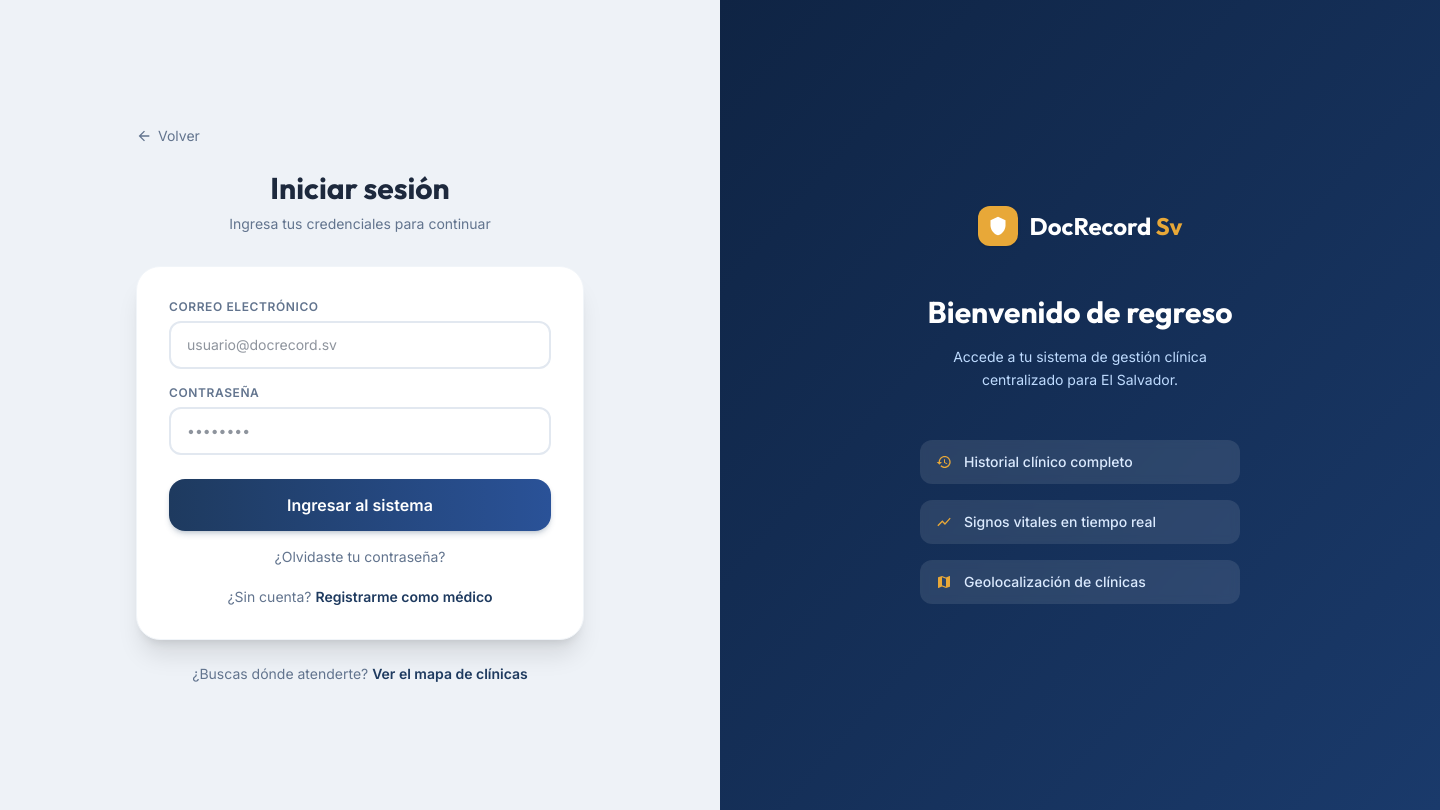
Test: LoginPage · el error de credenciales › queda asociado a los campos que lo provocan, no solo puesto debajo
Type "ana@ues.edu.sv" into the field labelled "Correo electrónico". click: (360, 345)
box: x1=169 y1=321 x2=551 y2=369
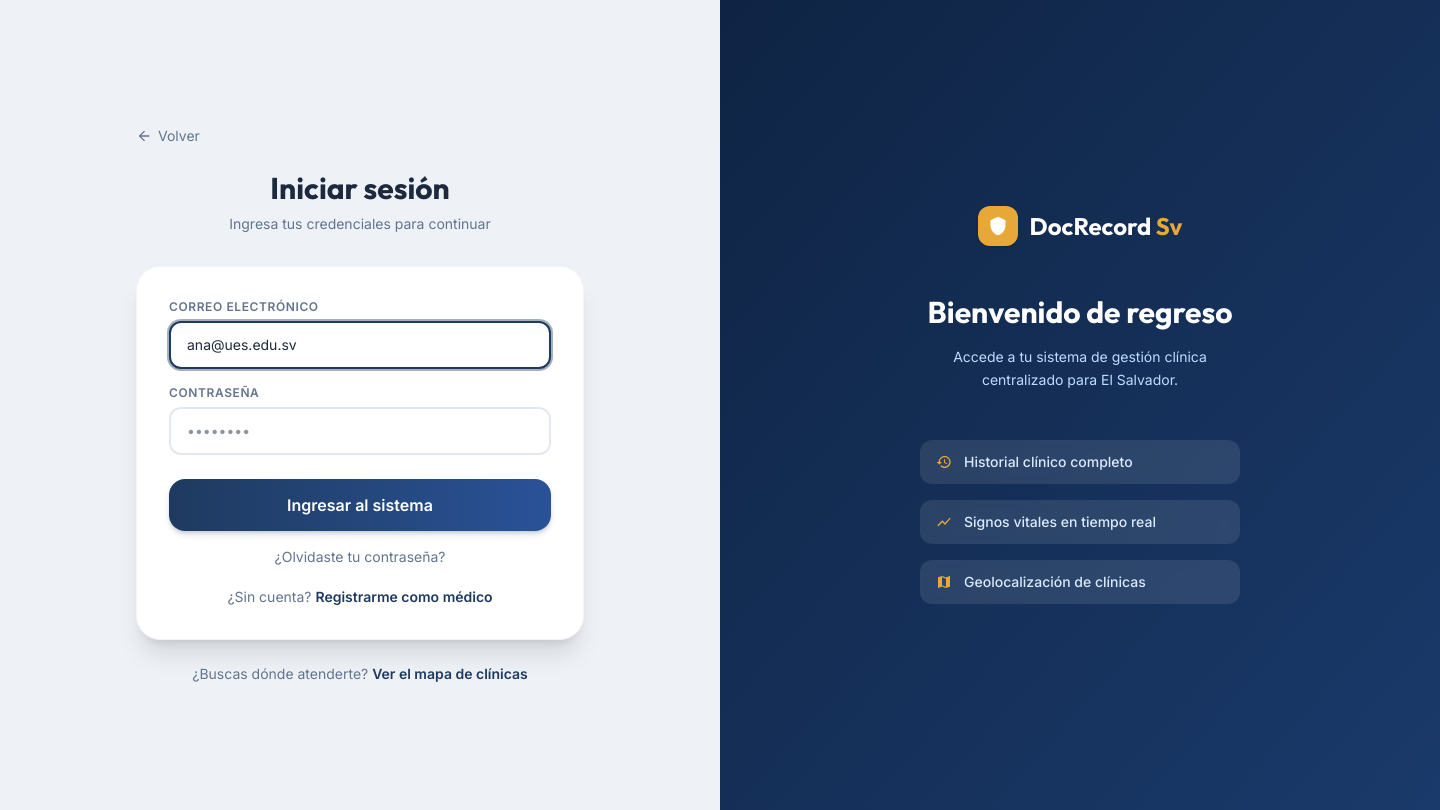
Type "clave-mala" into the password field labelled "Contraseña". click: (360, 431)
box: x1=169 y1=407 x2=551 y2=455
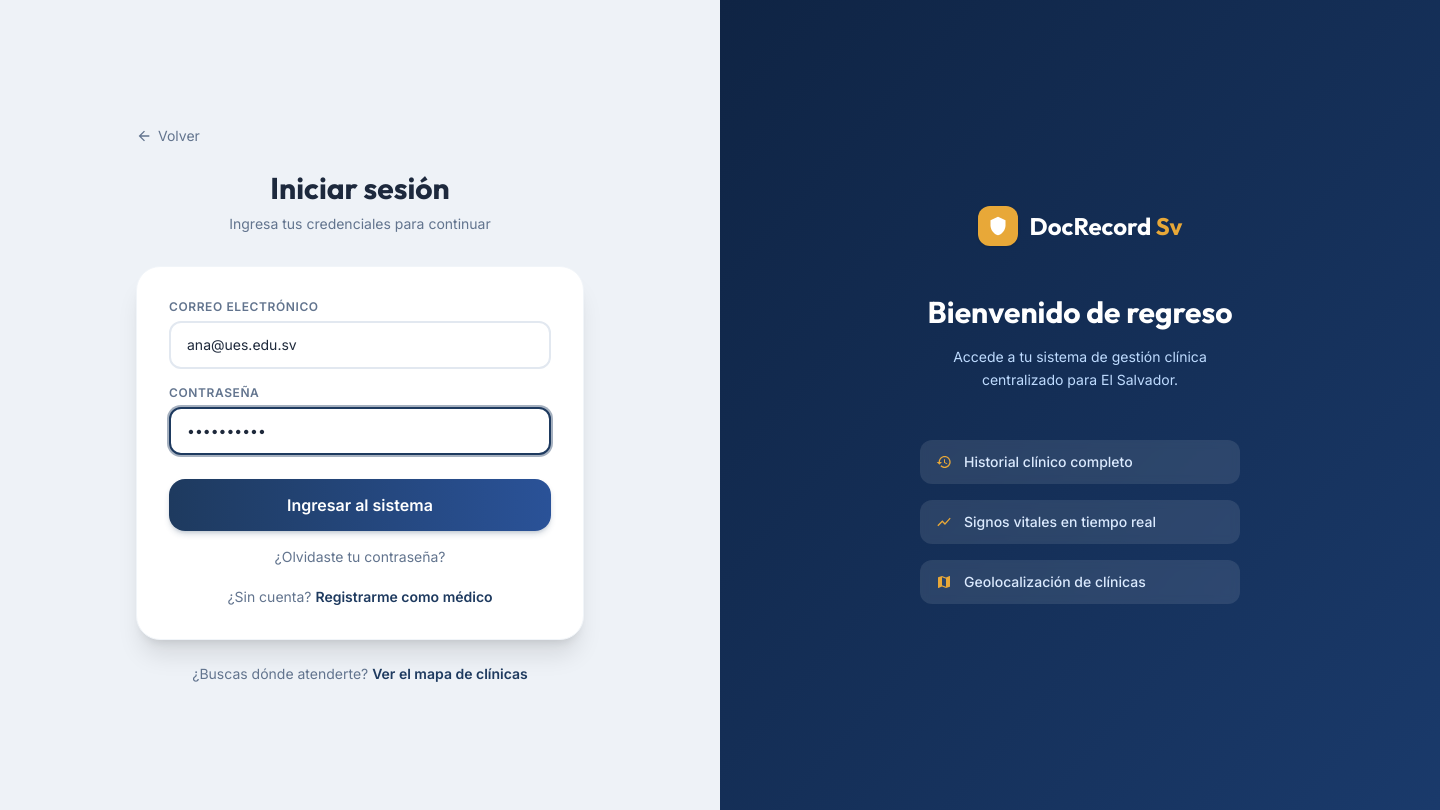
Click the button "Ingresar al sistema". click: (360, 505)
box: x1=169 y1=479 x2=551 y2=531
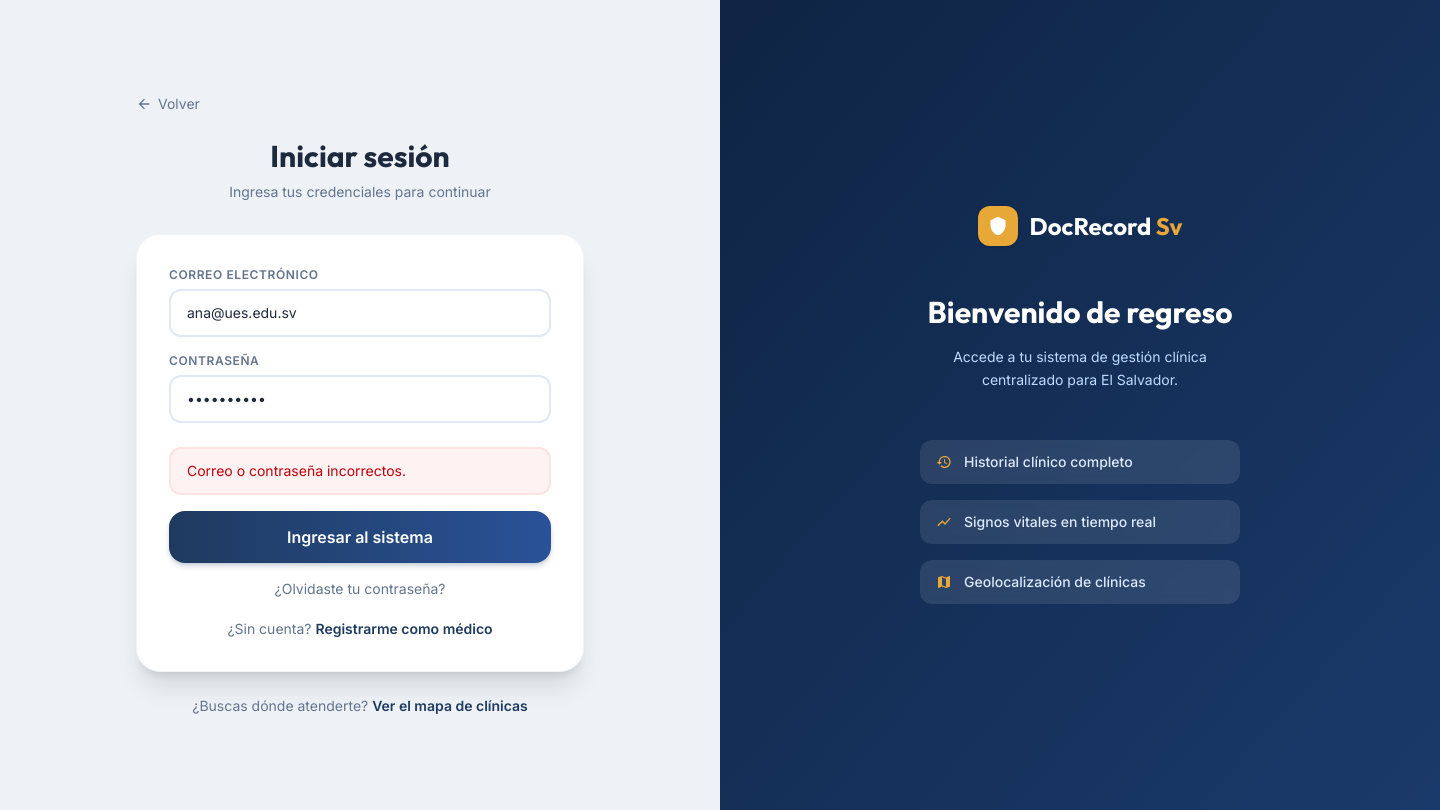
Now the message "Correo o contraseña incorrectos." is shown, box x1=169 y1=447 x2=551 y2=495
Now the message reads "Correo o contraseña incorrectos.", box x1=187 y1=462 x2=406 y2=479
